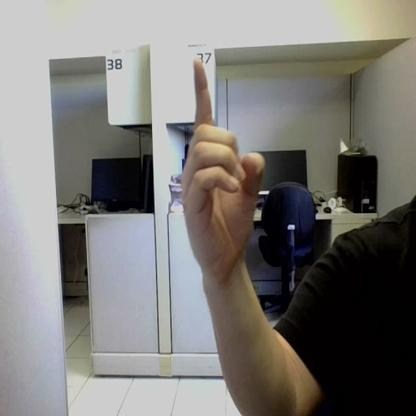D: (181, 58, 264, 270)
